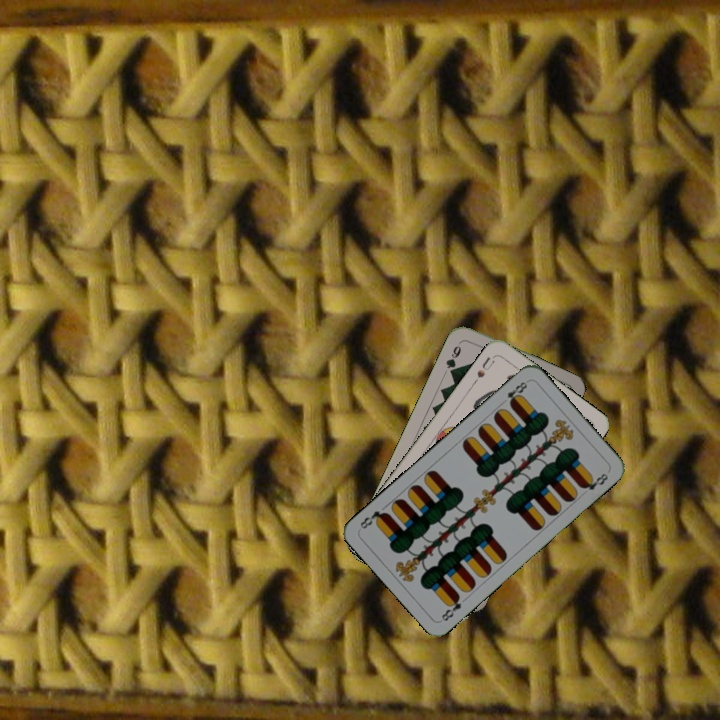E8: (437, 590, 464, 624), (502, 377, 531, 408)
G9: (442, 337, 464, 378)
SU: (469, 352, 498, 387)
